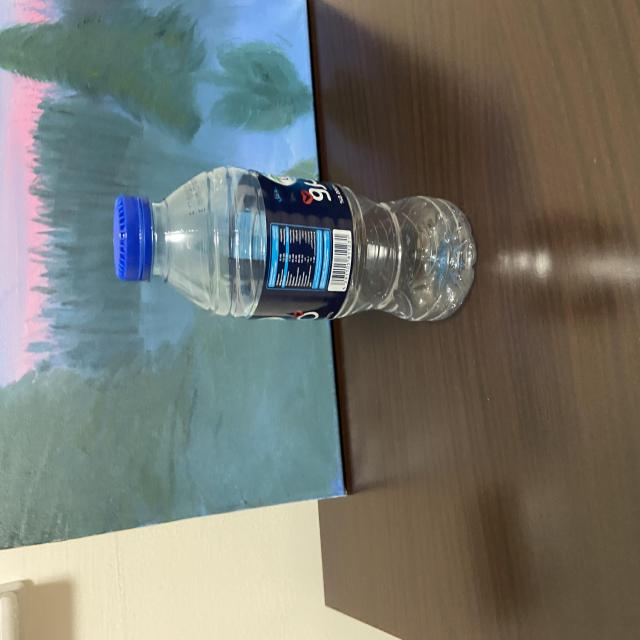bottle: (93, 154, 472, 332)
